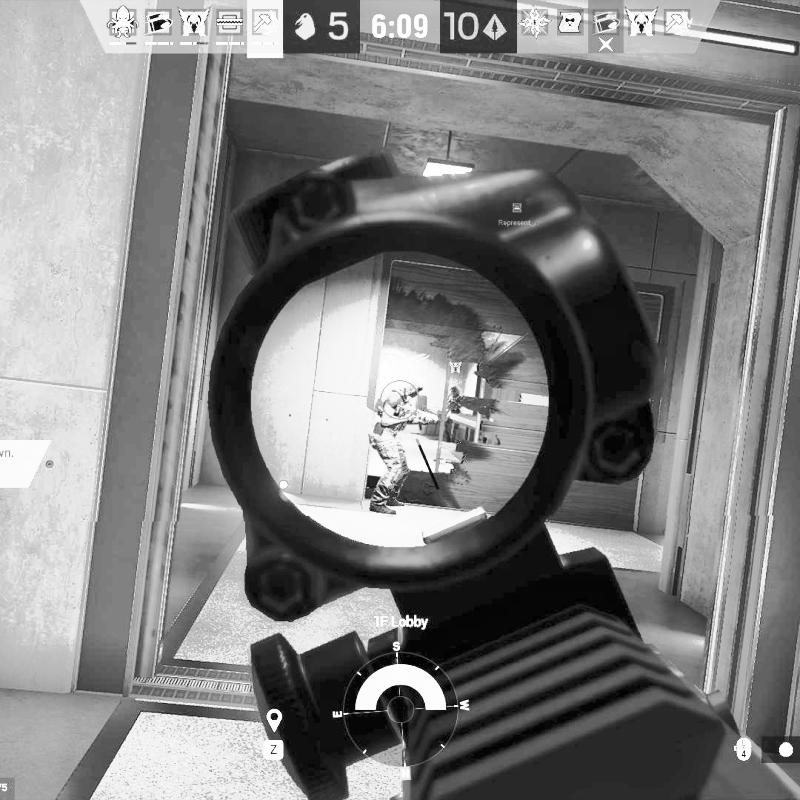Character: (362, 375, 439, 519), (442, 386, 466, 442)
Friend_label: (500, 199, 537, 229), (440, 360, 472, 386)
Head: (405, 378, 426, 401), (449, 386, 461, 400)
